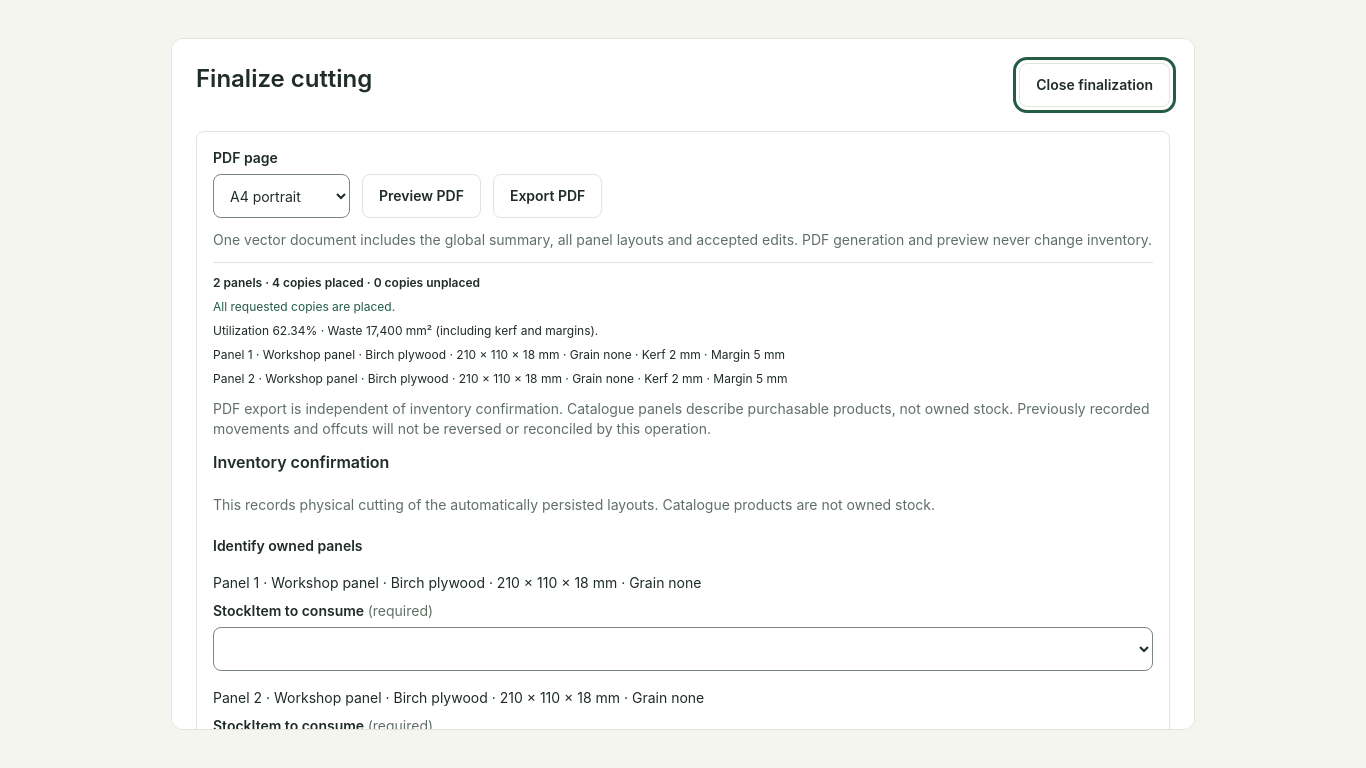
it: complete cutting finalization › confirms only reviewed stock and explicitly selected offcuts (keep one: false)
Select "stock-birch-offcut-1 · offcut · 5 available" in the dropdown with id "cutting-stock-0" at (683, 649), box [213, 627, 1153, 671]
(page scrolled)
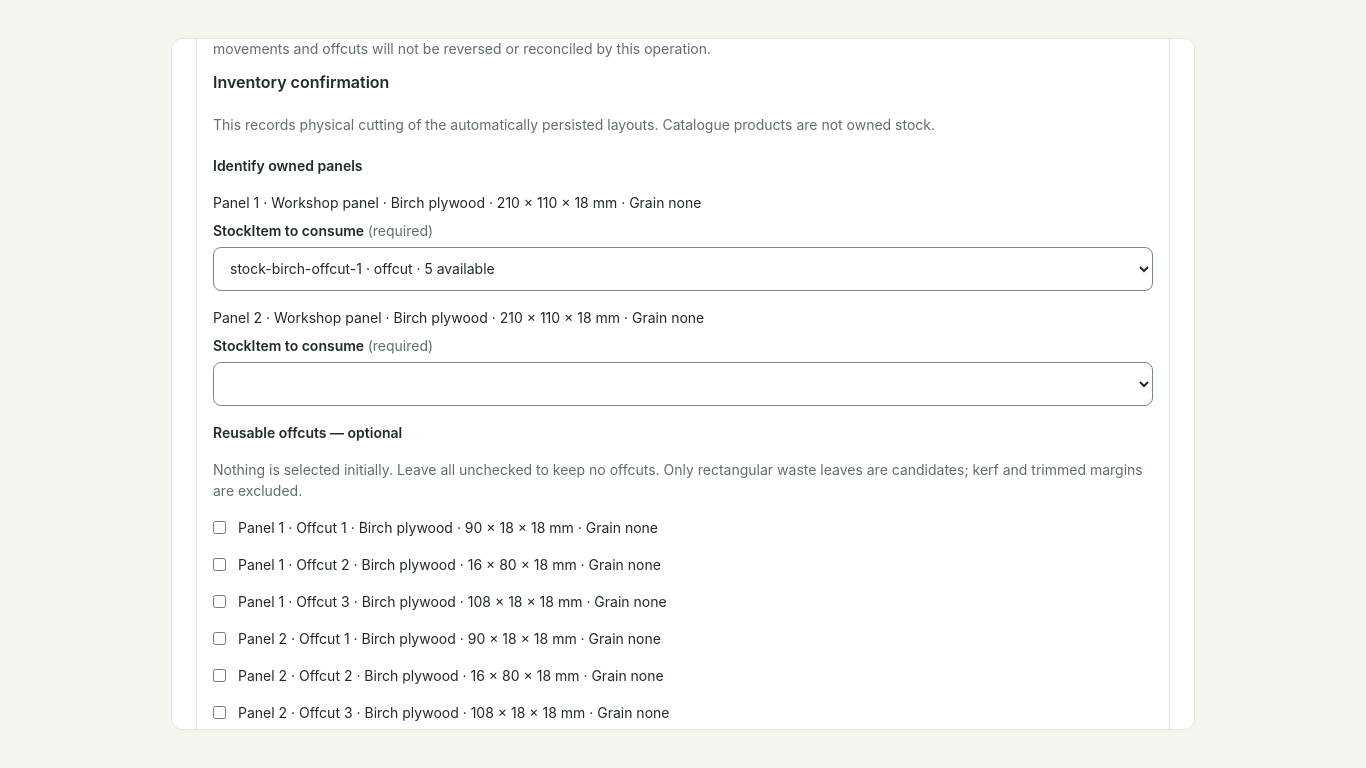
Select "stock-birch-offcut-1 · offcut · 5 available" in the dropdown with id "cutting-stock-1" at (683, 384), box [213, 362, 1153, 406]
(page scrolled)
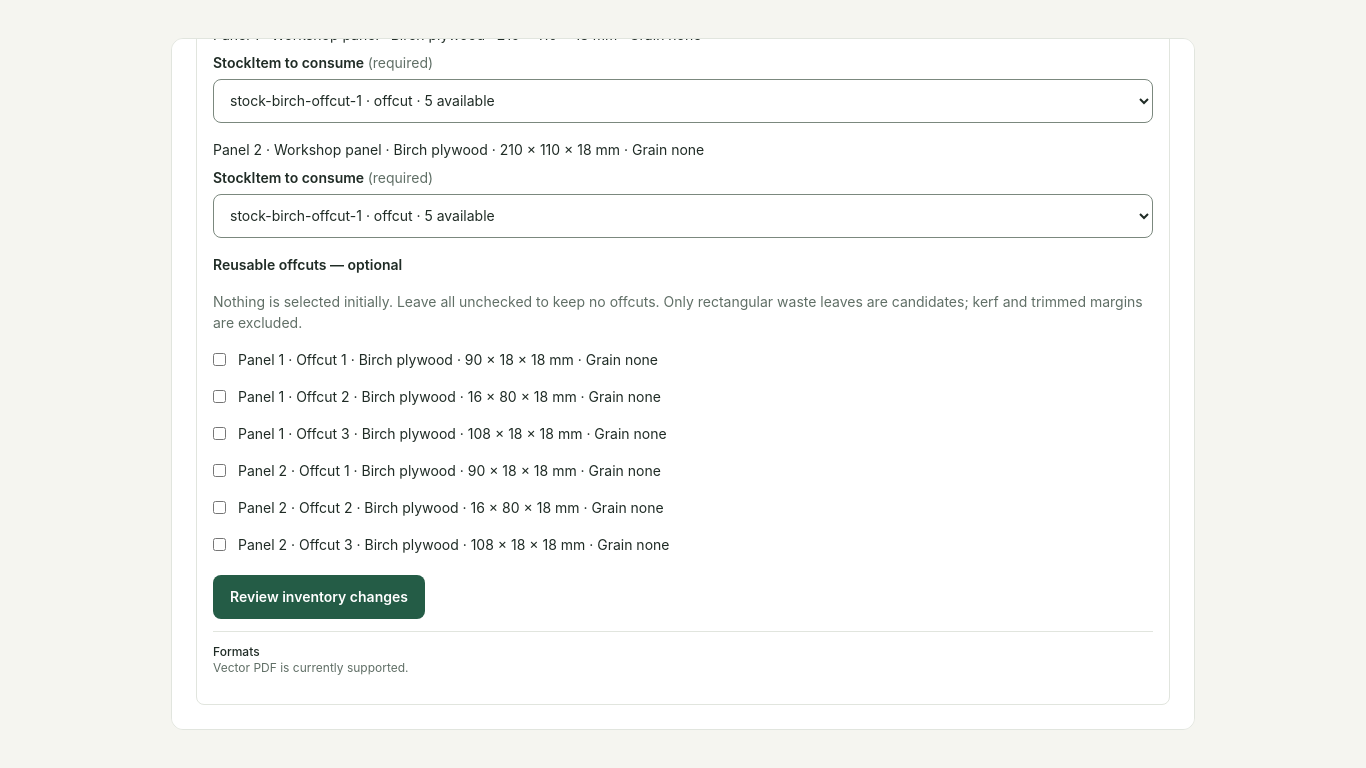
Click the button "Review inventory changes" at (319, 597), box [213, 575, 425, 619]
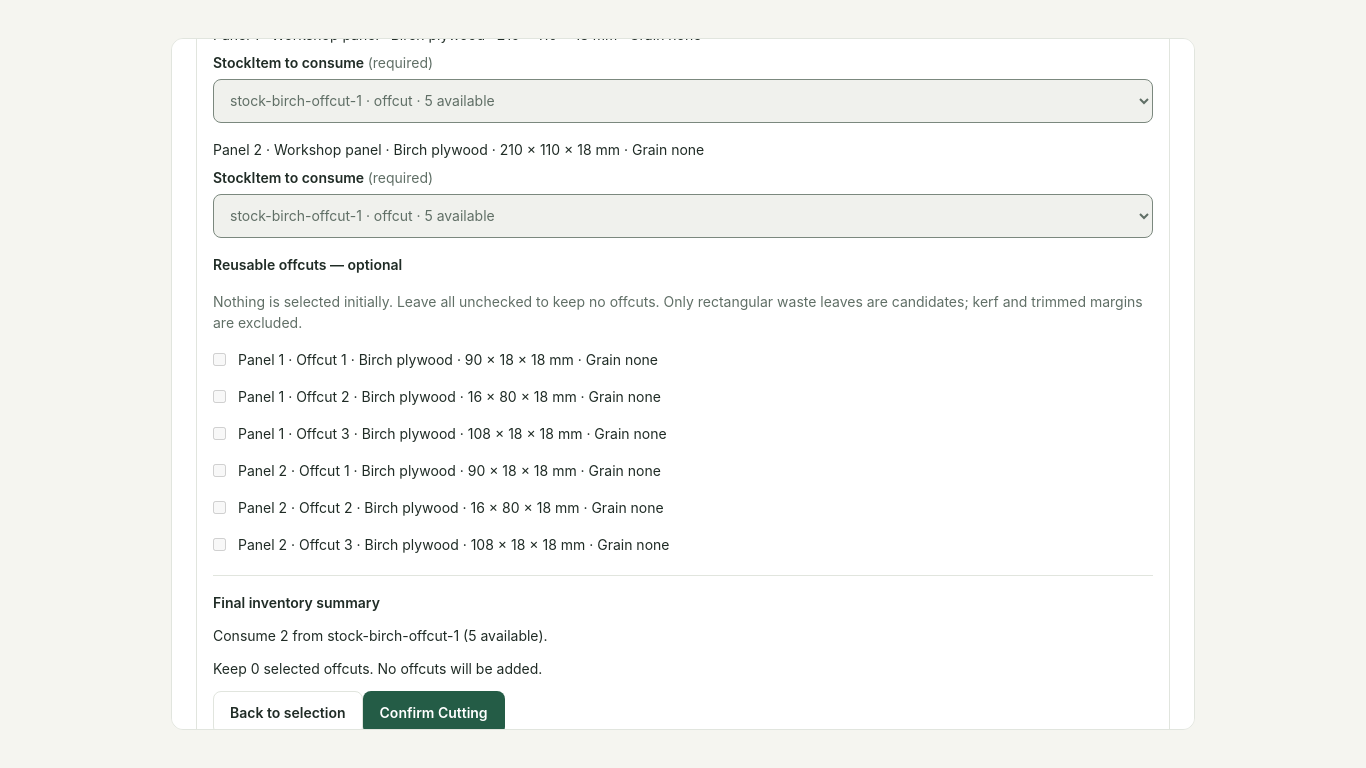
Expected: the text "No offcuts will be added" is shown, [213, 660, 542, 677]
Click the button "Confirm Cutting" at (434, 713), box [362, 691, 505, 735]
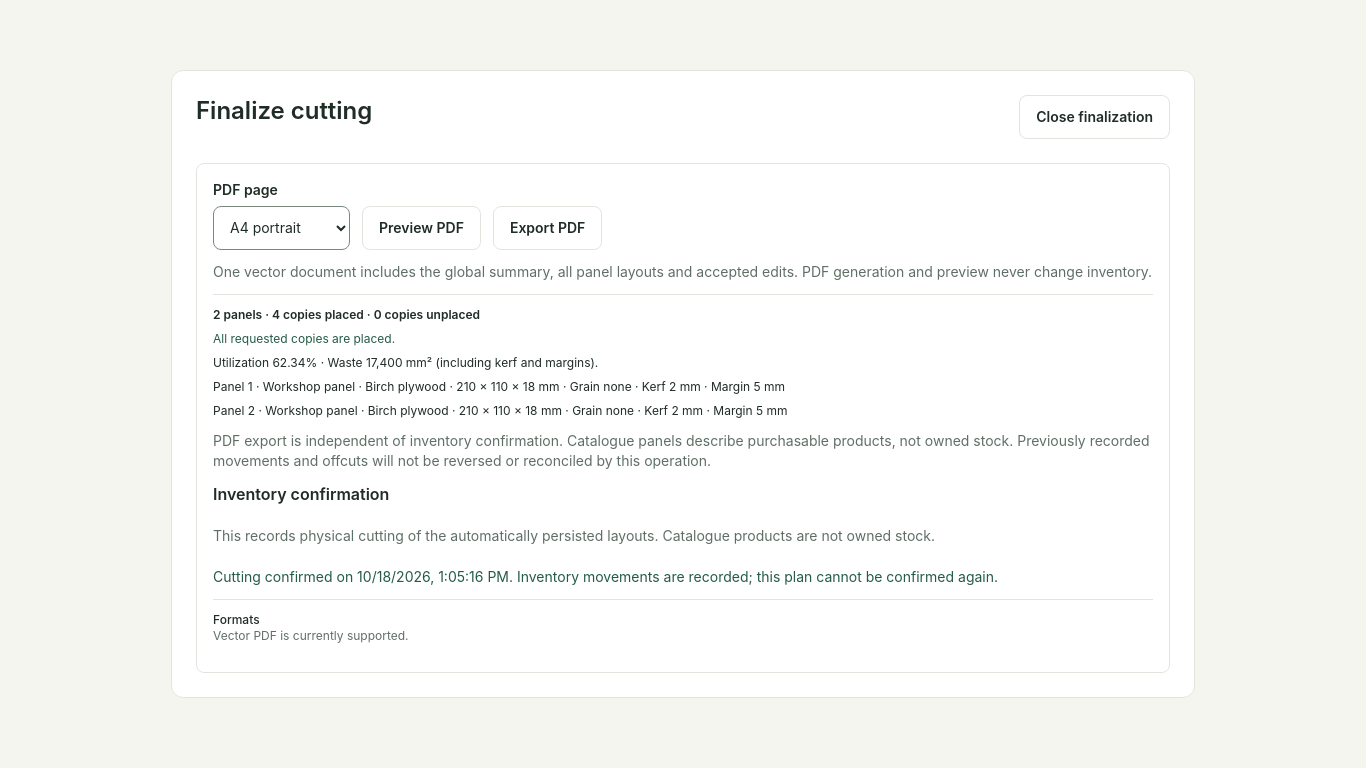
Expected: the text "this plan cannot be confirmed again" is shown, [213, 568, 998, 585]
Expected: the button "Export PDF" is enabled, [493, 206, 602, 250]
